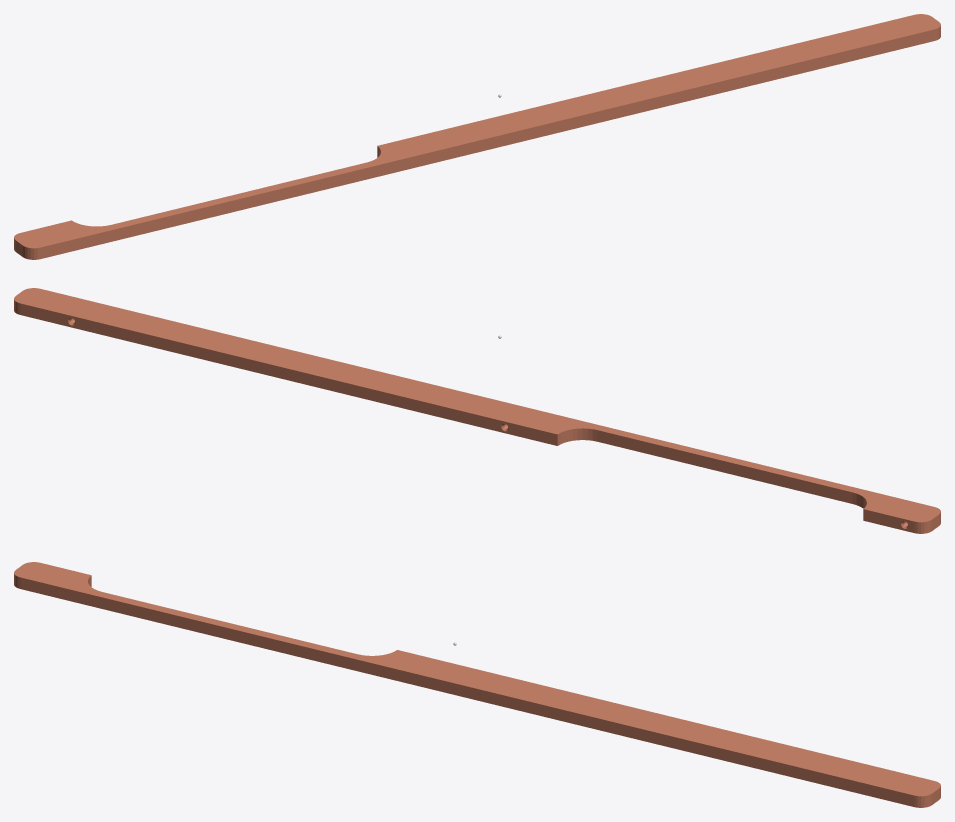
Rendered from 187 matt r gold.glb.
3 renders of one model, top to bottom at view 1: azimuth 30°, elevation 25°; view 2: azimuth 150°, elevation 25°; view 3: azimuth 330°, elevation 25°, orthographic.
Visible parts, largest first — view 1: CABINET_HANDLE_187; view 2: CABINET_HANDLE_187; view 3: CABINET_HANDLE_187.
Boxes of the visible parts, left/top/right/bottom form: CABINET_HANDLE_187: left=14, top=14, right=940, bottom=259; CABINET_HANDLE_187: left=14, top=288, right=940, bottom=533; CABINET_HANDLE_187: left=14, top=562, right=940, bottom=807.
Size of the model in its own units: 2.85 by 0.1923 by 0.1793.
